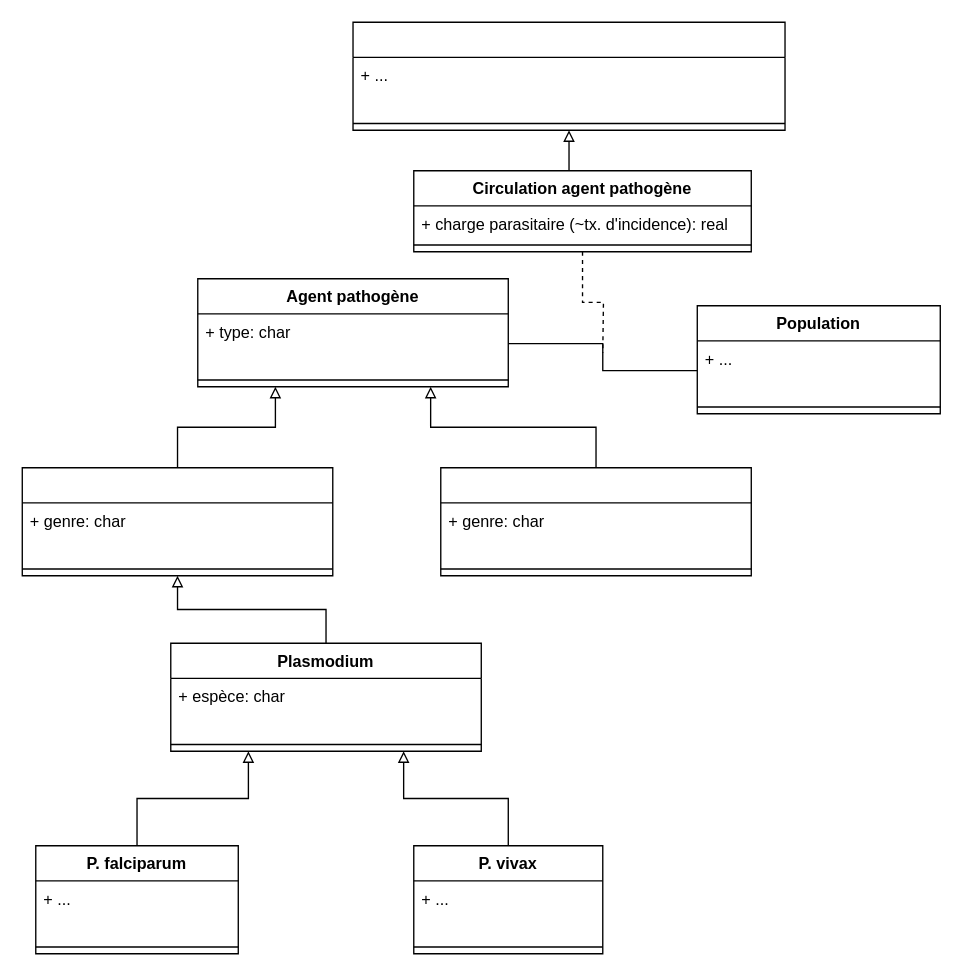
The diagram is 963 pixels wide and 976 high, and some of its shapes have lost their labels. Here are the shapes that lost their labels. From the top down, the box of each, then its label:
(352, 21, 785, 130): Occurrence de piqûre(s) infectante(s) (transmission)
(21, 466, 333, 576): Parasite
(439, 466, 751, 576): Virus
